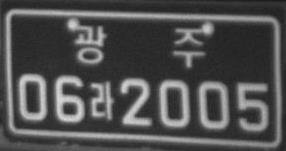0: (197, 78, 231, 132), (157, 77, 191, 130), (17, 72, 49, 122)
2: (119, 76, 153, 127)
5: (235, 79, 271, 134)
6: (54, 74, 86, 124)
광주_D: (70, 21, 208, 70)
라: (89, 79, 115, 121)
